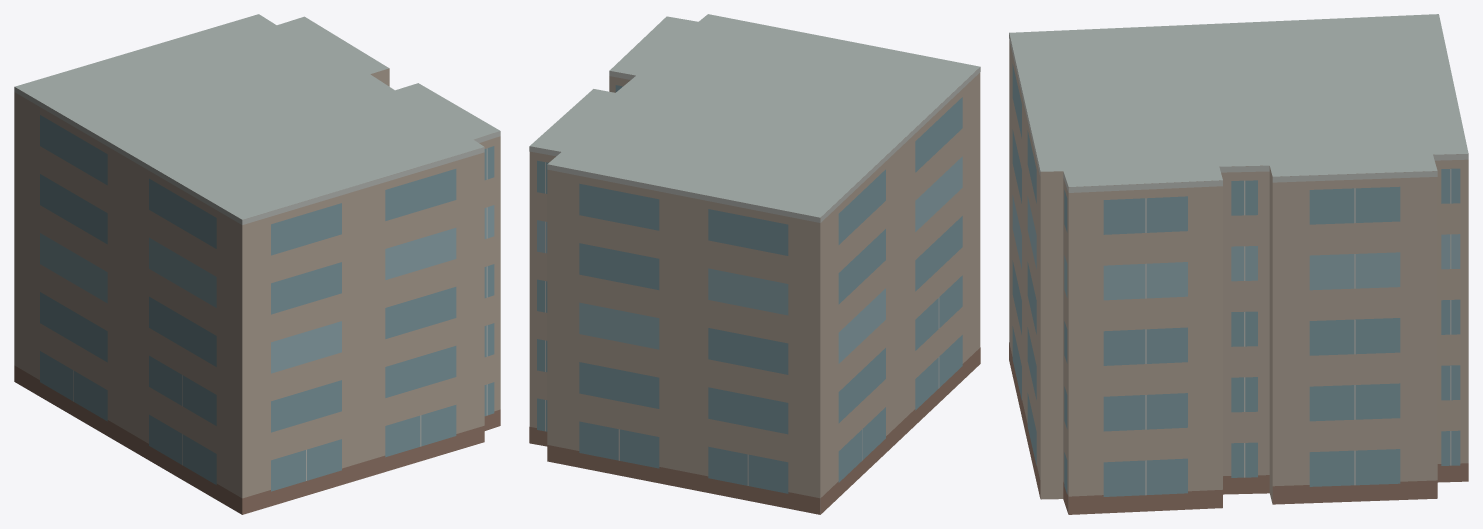
File: survey-upis-32743536.glb
3 renders of one model, left to right at view 1: azimuth 30°, elevation 25°; view 2: azimuth 150°, elevation 25°; view 3: azimuth 270°, elevation 25°, orthographic. The views are drawn at different scales.
Parts seen in each view (by area): view 1: survey-upis-32743536.tmp; view 2: survey-upis-32743536.tmp; view 3: survey-upis-32743536.tmp.
Part boxes in pixels (box(x1,y1,x2,y2)): survey-upis-32743536.tmp: box(14, 14, 500, 514); survey-upis-32743536.tmp: box(529, 14, 980, 514); survey-upis-32743536.tmp: box(1009, 14, 1468, 514).
Size of the model in its own units: 15.3 by 13.5 by 17.16.
